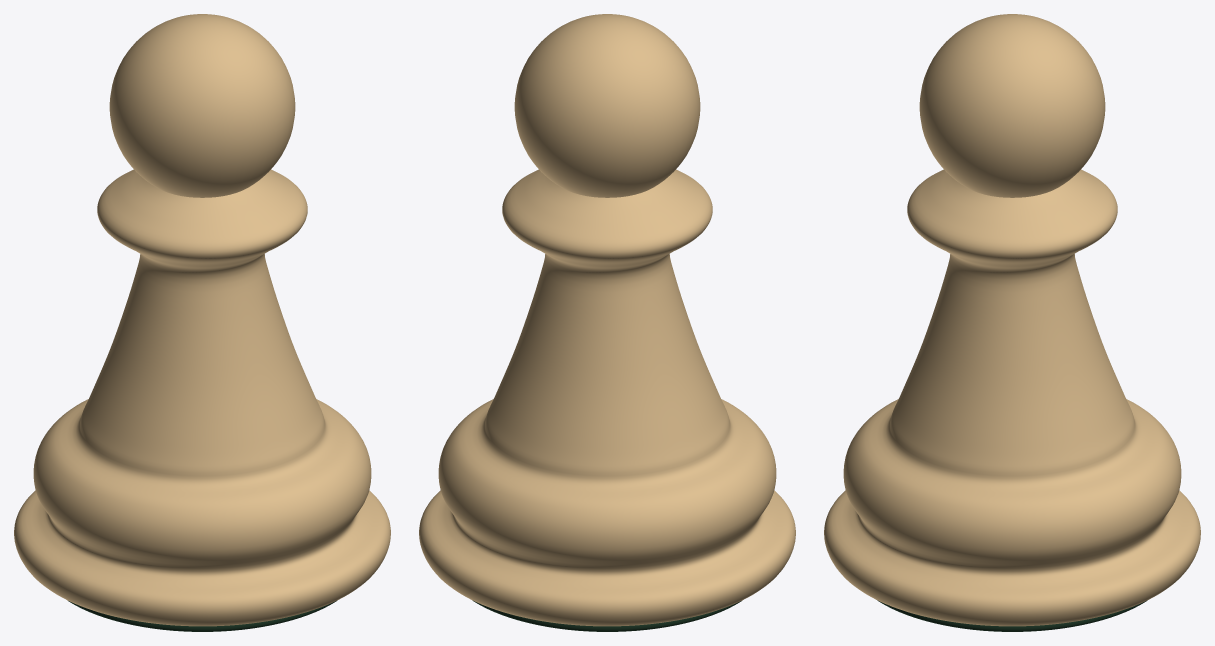
The model's file is pawn.glb.
The picture shows the model from 3 angles, left to right: view 1: azimuth 30°, elevation 25°; view 2: azimuth 150°, elevation 25°; view 3: azimuth 270°, elevation 25°; orthographic projection.
Visible parts, largest first — view 1: Pawn.001; view 2: Pawn.001; view 3: Pawn.001.
Boxes of the visible parts, left/top/right/bottom form: Pawn.001: left=14, top=14, right=390, bottom=631; Pawn.001: left=419, top=14, right=795, bottom=631; Pawn.001: left=824, top=14, right=1200, bottom=631.
Size of the model in its own units: 0.0312 by 0.0496 by 0.0312.
